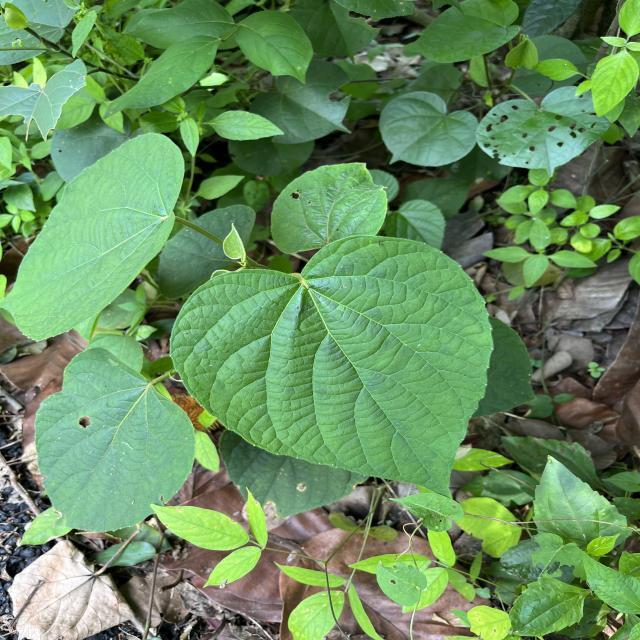Clerodendrum infortunatum: (168, 234, 494, 501), (0, 130, 188, 342), (36, 346, 196, 534), (271, 162, 389, 256)
